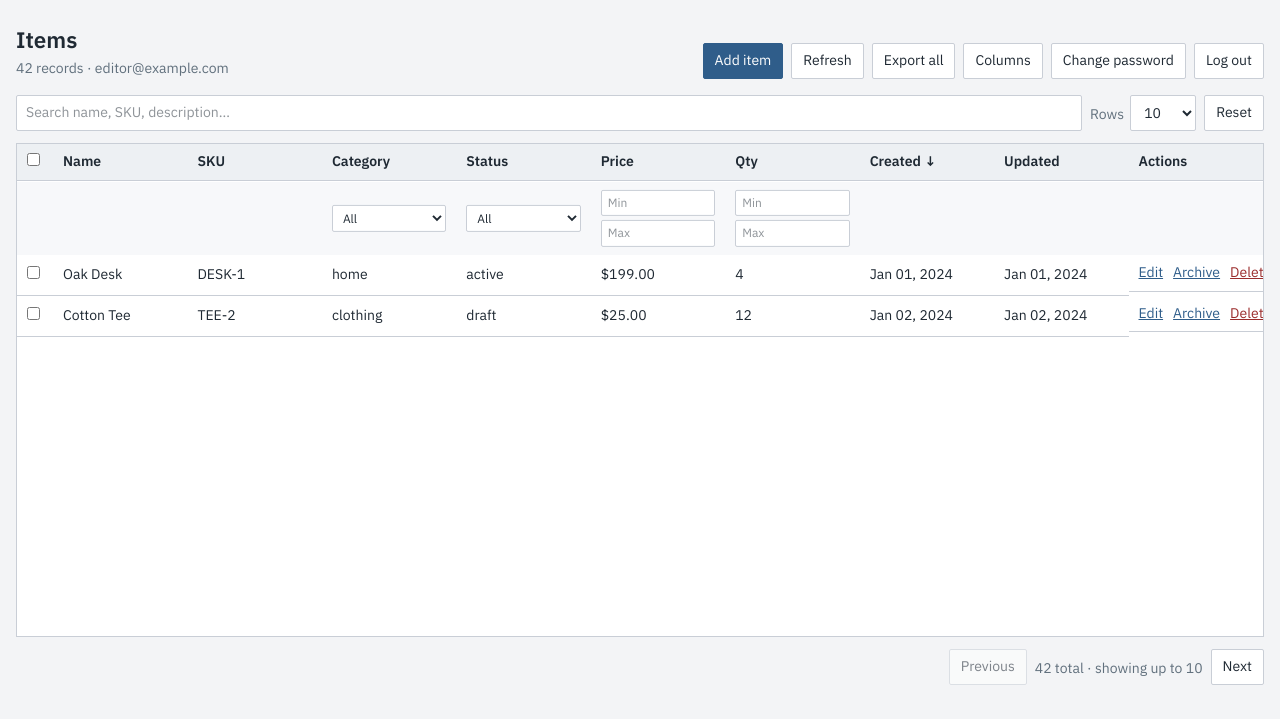
ItemsDataTable › renders rows, selects a row, and select-all matching count
Expected: the text "Oak Desk" is shown, x1=53 y1=255 x2=187 y2=296
Expected: the text "Cotton Tee" is shown, x1=53 y1=296 x2=187 y2=337
What coordinates should you click on to do the following:
click the checkbox named "select oak desk"
I would click on:
 (34, 273)
Its box is x1=27 y1=266 x2=40 y2=279.
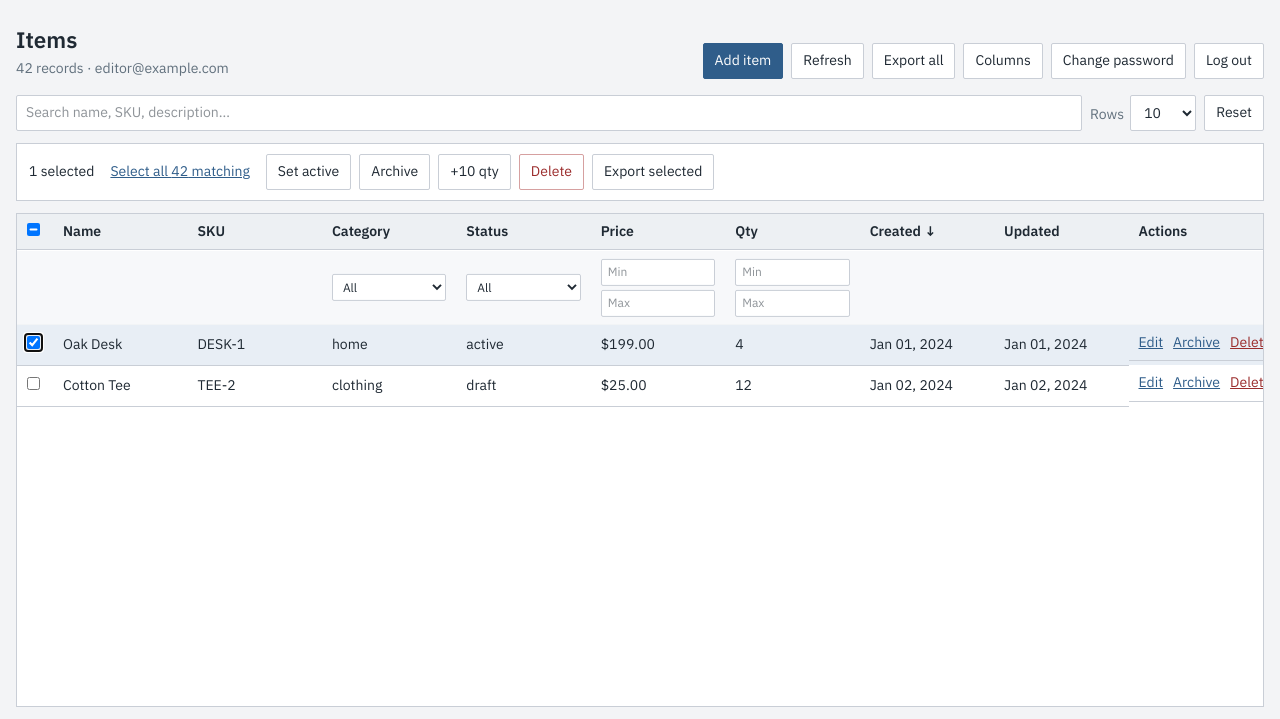
Now the text "1 selected" is shown, box x1=29 y1=162 x2=94 y2=182
What coordinates should you click on to do the following:
click the button "Select all 42 matching"
I would click on:
 (180, 172)
Its box is x1=110 y1=162 x2=250 y2=182.
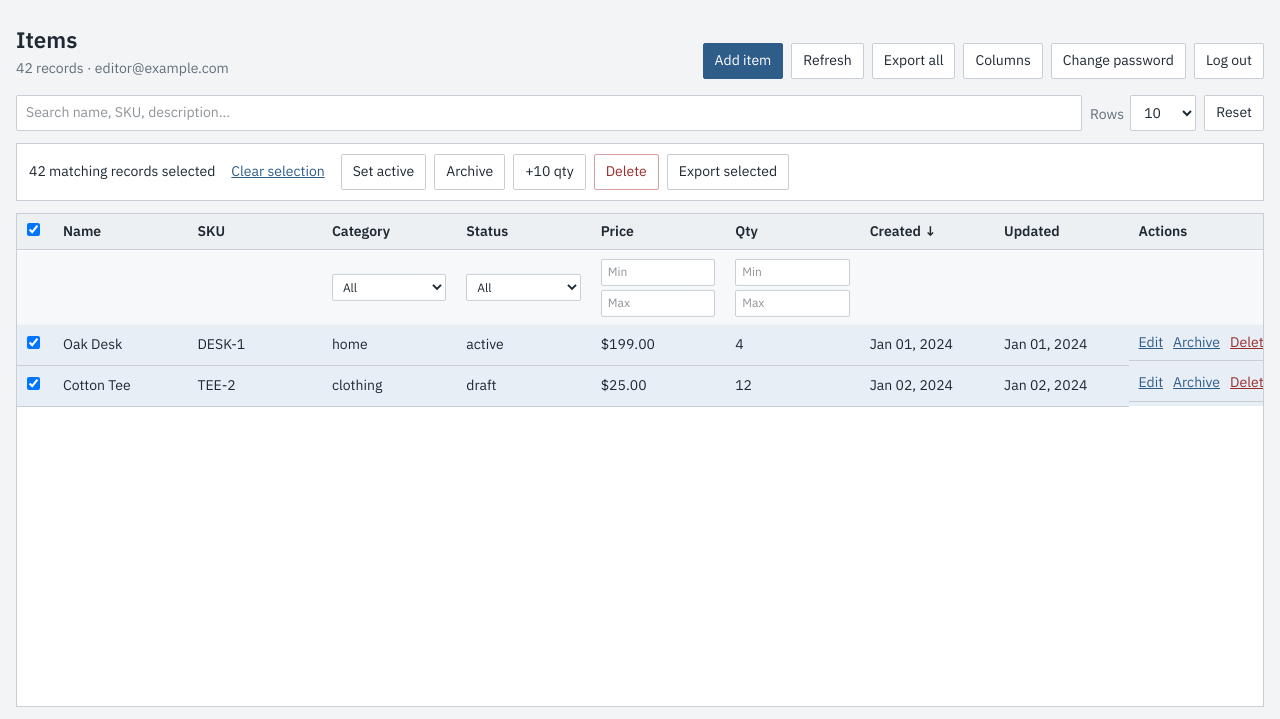
Expected: the text "Oak Desk" is shown, x1=53 y1=324 x2=187 y2=365
Now the text "42 matching records selected" is shown, box x1=29 y1=162 x2=215 y2=182
